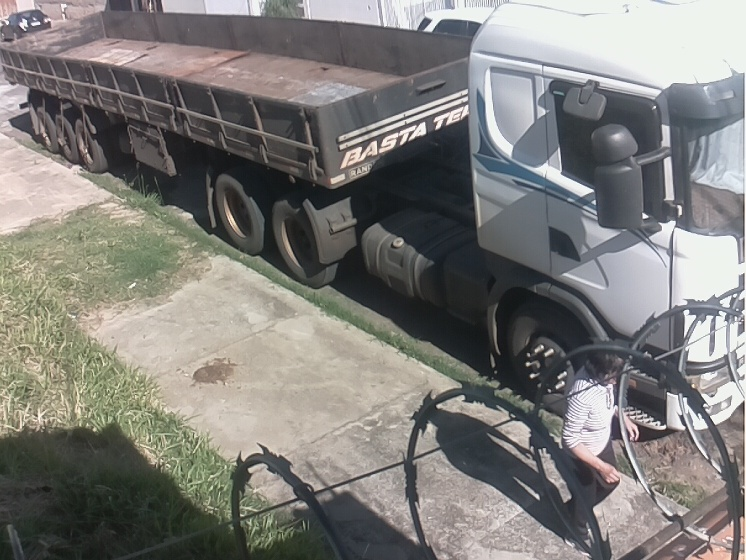person: (560, 352, 641, 547)
